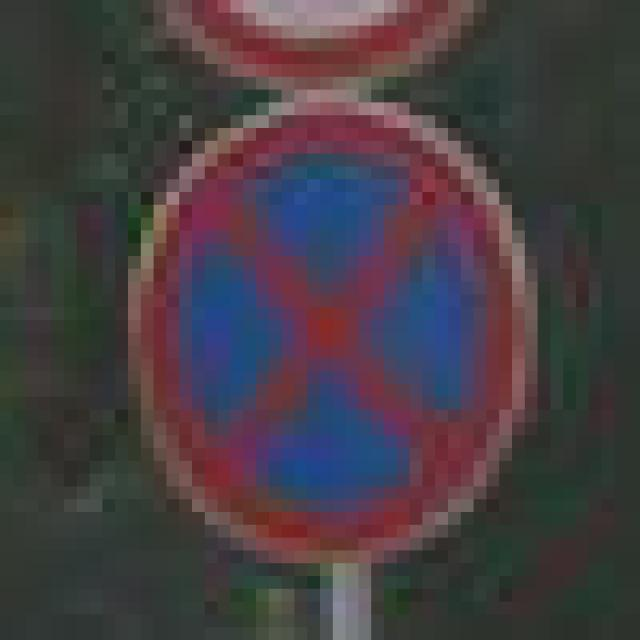NO_STOPPING_OR_STANDING: (115, 90, 512, 538)
